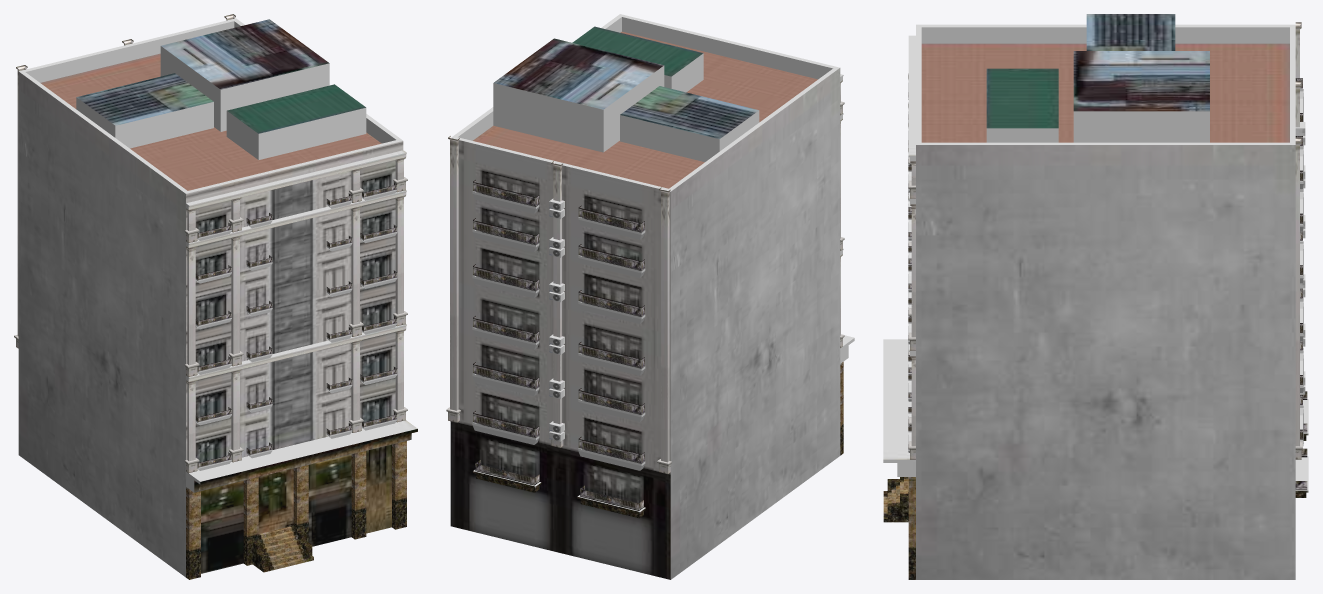
The picture shows the model from 3 angles, left to right: view 1: azimuth 30°, elevation 25°; view 2: azimuth 150°, elevation 25°; view 3: azimuth 270°, elevation 25°; orthographic projection. The views are drawn at different scales.
Visible parts, largest first — view 1: HN875___TH_APARTMENT; view 2: HN875___TH_APARTMENT; view 3: HN875___TH_APARTMENT.
Part boxes in pixels (left/top/right/bottom): HN875___TH_APARTMENT: left=14, top=14, right=417, bottom=579; HN875___TH_APARTMENT: left=446, top=14, right=854, bottom=579; HN875___TH_APARTMENT: left=883, top=14, right=1308, bottom=579.
Bounding box in the file's own units: 15.16 × 27.11 × 22.4.
1 material, 1 textured.
